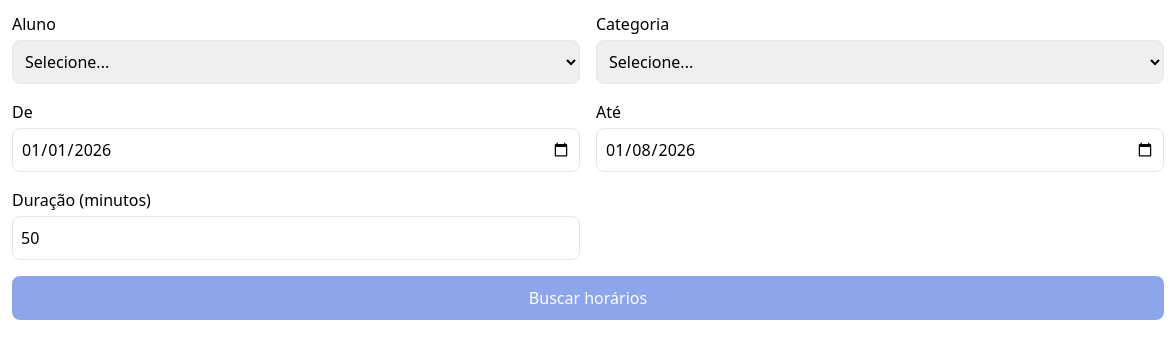
Test: SlotSearchForm › Deve preencher a categoria automaticamente ao selecionar o aluno
This screenshot has width=1176, height=337.
Step 1. Select "Ana Teste" in the dropdown with id "studentId" → (296, 62), box [12,40,580,84]
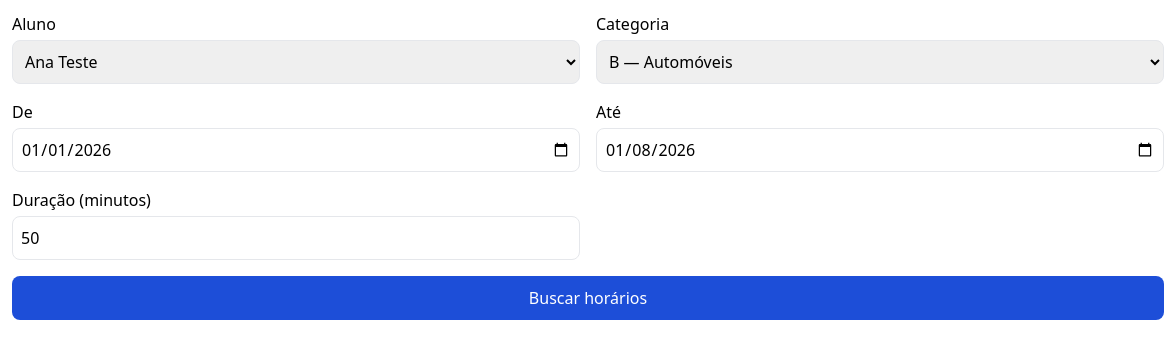
Now the dropdown with id "categoryId" shows "B — Automóveis", box [596,40,1164,84]
